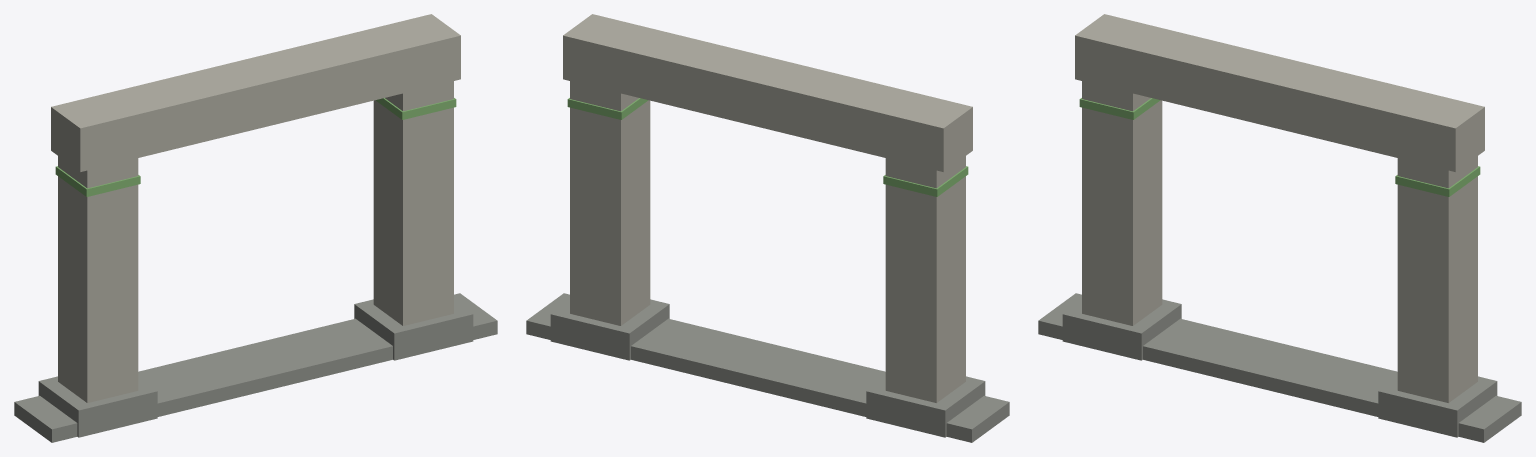
File: jungle_gate.glb
3 renders of one model, left to right at view 1: azimuth 30°, elevation 25°; view 2: azimuth 150°, elevation 25°; view 3: azimuth 330°, elevation 25°, orthographic.
Visible parts, largest first — view 1: jungle_gate; view 2: jungle_gate; view 3: jungle_gate.
Boxes of the visible parts, left/top/right/bottom form: jungle_gate: left=14, top=14, right=497, bottom=442; jungle_gate: left=526, top=14, right=1009, bottom=442; jungle_gate: left=1038, top=14, right=1521, bottom=442.
Size of the model in its own units: 4.8 by 3.12 by 0.75.
